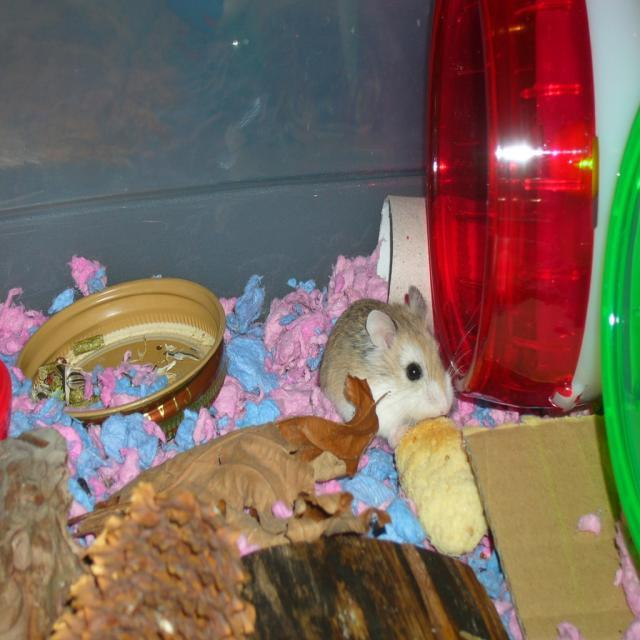rat: (313, 283, 480, 448)
